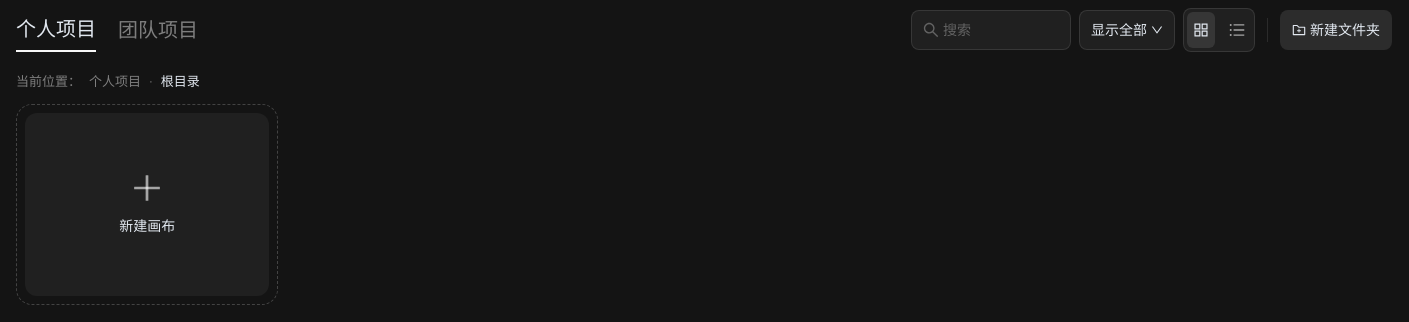
Test case: WorkspaceDimension 共享组件 › list 视图：bg-overlay-1 rounded-xl 外壳 + 表头六列 + 新建画布行
Step 1. Click the button named "List view" → (1237, 30), box 1223,12 -> 1251,48
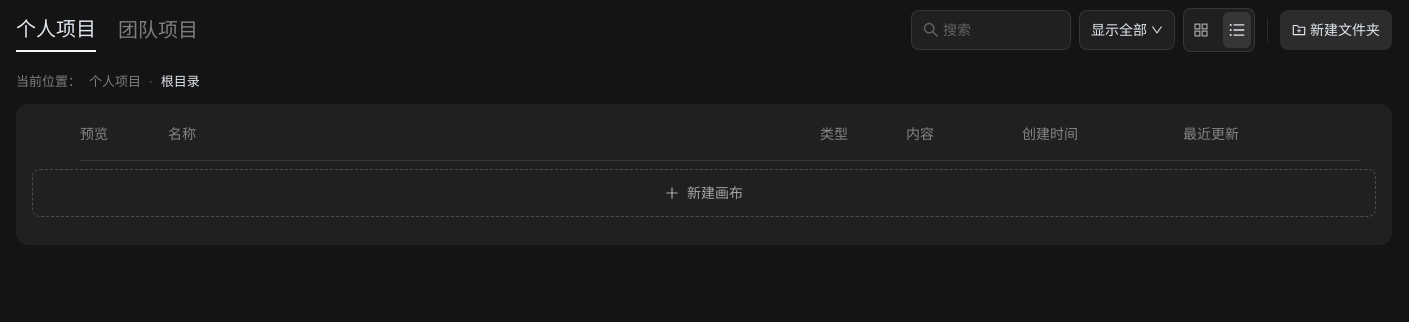
Check: the text "预览" is shown, box 80,124 -> 108,142
Check: the text "名称" is shown, box 168,124 -> 196,142
Check: the text "类型" is shown, box 820,124 -> 848,142
